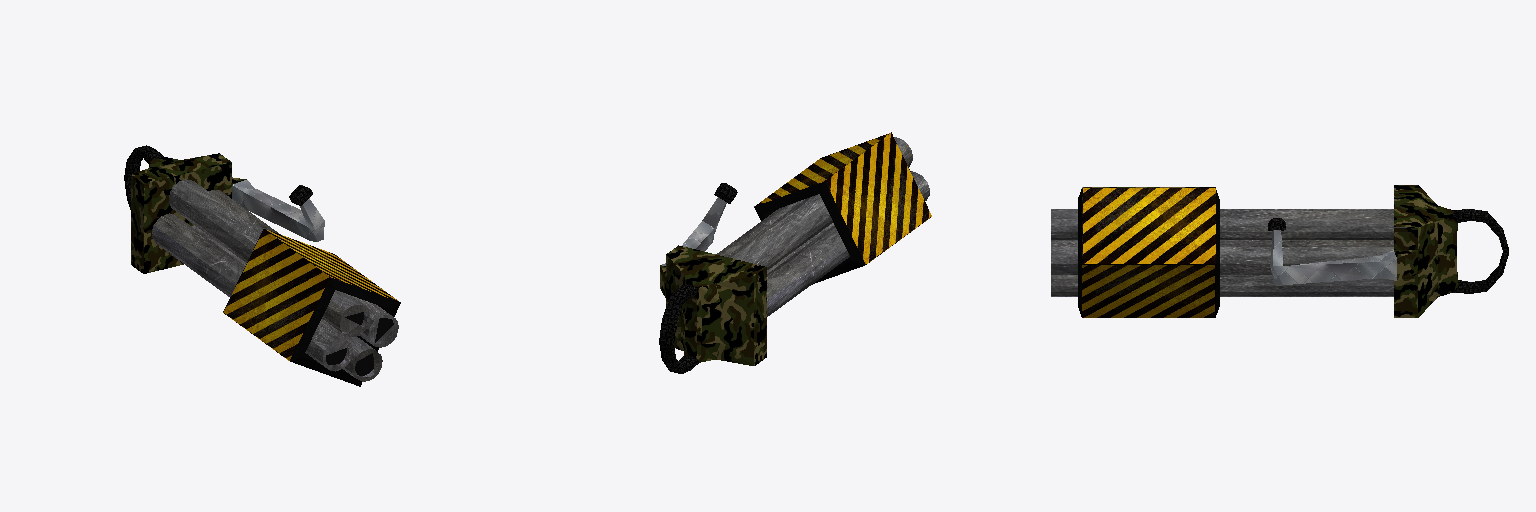
3 views of the same model, side by side, from view 1: azimuth 30°, elevation 25°; view 2: azimuth 150°, elevation 25°; view 3: azimuth 270°, elevation 25° (orthographic).
Parts seen in each view (by area): view 1: Cylinder.001, Cylinder.000_Cylinder.004, Cube; view 2: Cube, Cylinder.000_Cylinder.004, Cylinder.001; view 3: Cylinder.000_Cylinder.004, Cylinder.001, Cube.
Boxes of the visible parts, <box> form: Cylinder.001: <box>152,179,398,381</box>; Cylinder.000_Cylinder.004: <box>223,229,400,386</box>; Cube: <box>124,145,324,273</box>; Cube: <box>659,183,766,373</box>; Cylinder.000_Cylinder.004: <box>754,132,931,284</box>; Cylinder.001: <box>690,137,929,316</box>; Cylinder.000_Cylinder.004: <box>1078,187,1219,317</box>; Cylinder.001: <box>1051,209,1406,296</box>; Cube: <box>1268,185,1508,317</box>.
Size of the model in its own units: 1.7 by 1.48 by 5.15.
Materials: 3 (1 with a texture image).